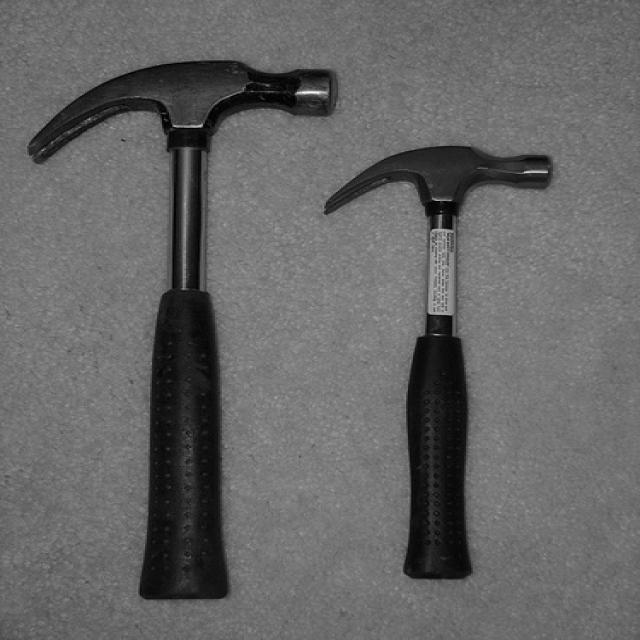hammer: (20, 51, 342, 604), (318, 135, 566, 585)
